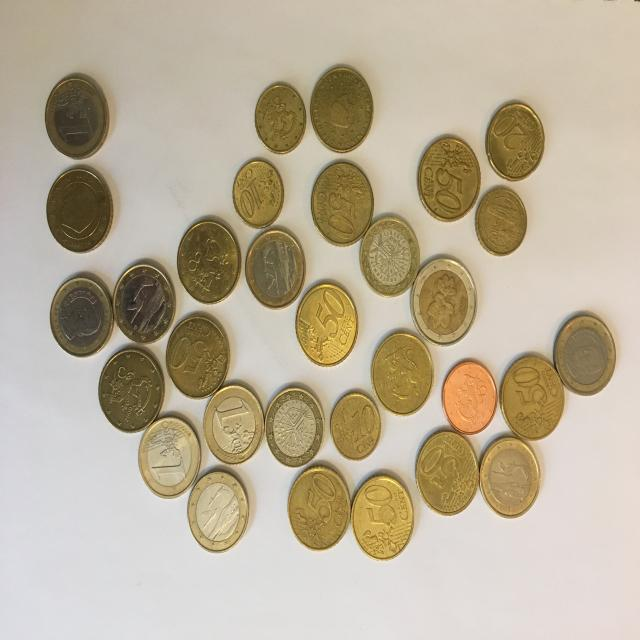10c: (250, 76, 309, 157), (325, 387, 384, 467), (229, 152, 287, 230), (474, 183, 530, 260)
1e: (40, 70, 113, 164), (181, 467, 259, 552), (109, 258, 181, 348), (48, 269, 117, 362), (244, 222, 312, 316), (552, 308, 620, 402), (132, 412, 204, 499), (478, 431, 546, 523), (199, 380, 267, 467), (355, 211, 422, 298), (262, 385, 329, 470)
20c: (482, 95, 548, 185)
2e: (407, 244, 481, 350)
50c: (282, 457, 354, 557), (42, 164, 118, 256), (97, 340, 167, 437), (293, 276, 362, 372), (414, 424, 484, 517), (309, 156, 379, 248), (348, 471, 418, 561), (498, 350, 568, 440), (368, 325, 437, 416), (309, 62, 377, 154), (173, 216, 243, 305), (414, 134, 484, 222), (162, 313, 232, 401)
5c: (436, 358, 501, 438)
